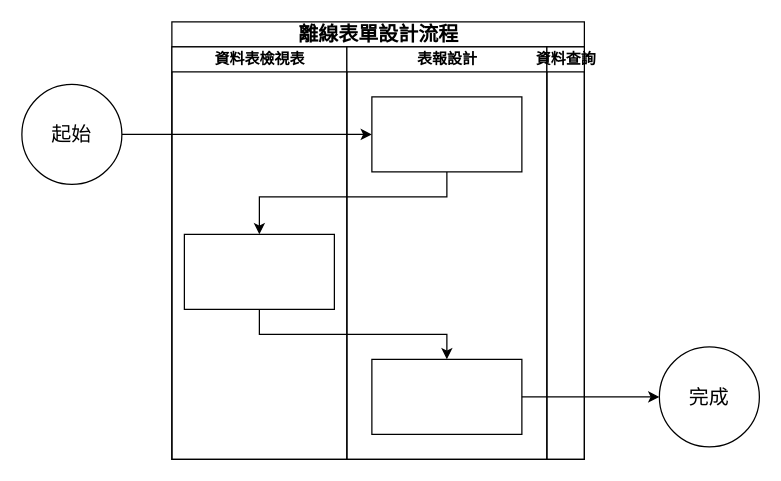
The diagram is 781 pixels wide and 481 high, and some of its shapes have lost their labels. Each missing label, with the centre of its shape:
"建立離線檢視表(離線=Y)" belongs at [258,271].
"建立離線表單" belongs at [446,134].
"指定離線檢視表資料來源" belongs at [446,396].
